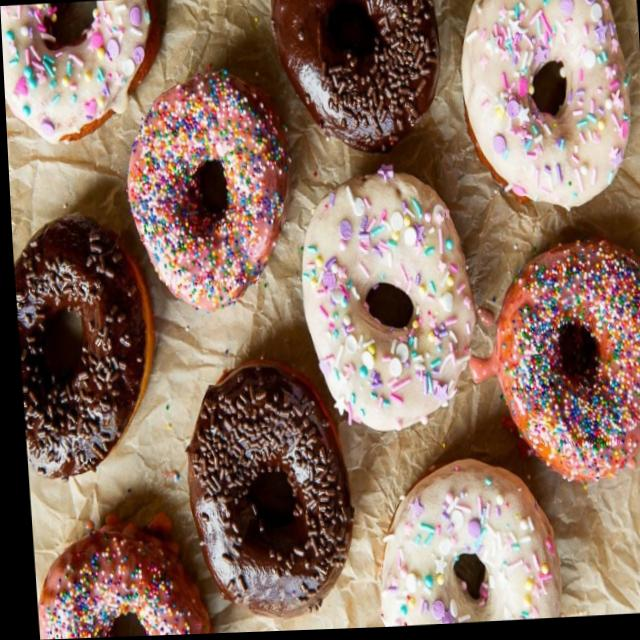donut: (287, 157, 471, 441), (172, 341, 354, 625), (114, 59, 304, 316), (451, 0, 638, 225), (478, 233, 640, 492), (9, 220, 156, 485), (357, 447, 563, 630), (265, 0, 448, 165), (0, 0, 163, 149), (24, 512, 203, 640)
